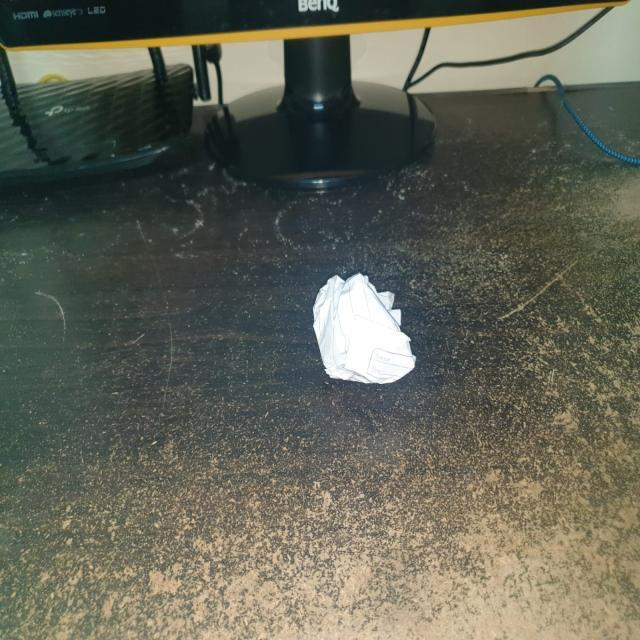Paper: (316, 274, 415, 382)
